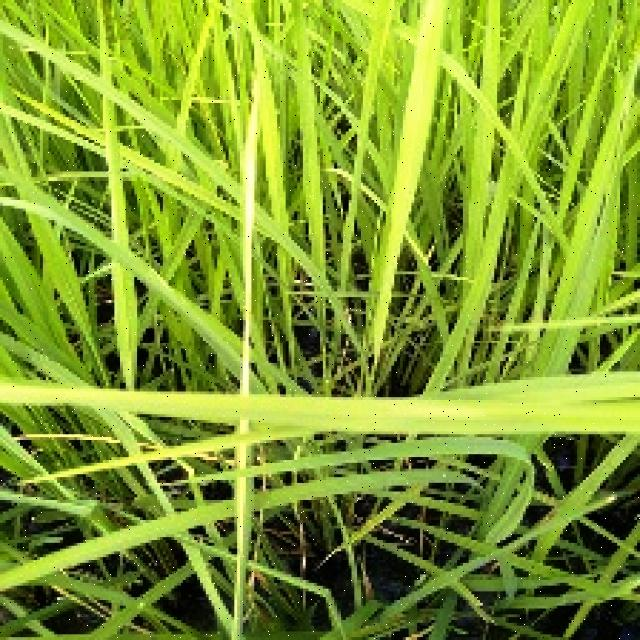health: (0, 0, 637, 386)
